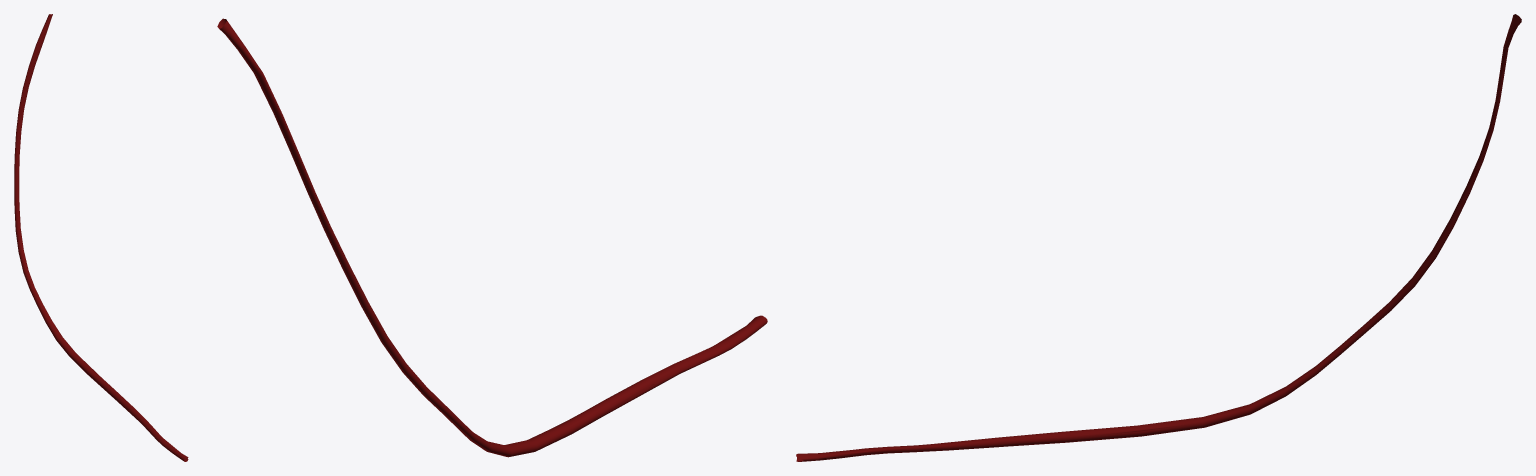
File: L arteria epigastrica cranialis.fbx
The picture shows the model from 3 angles, left to right: view 1: azimuth 30°, elevation 25°; view 2: azimuth 150°, elevation 25°; view 3: azimuth 270°, elevation 25°; orthographic projection. The views are drawn at different scales.
Visible parts, largest first — view 1: L arteria epigastrica cranialis, L arteria epigastrica cranialis low; view 2: L arteria epigastrica cranialis, L arteria epigastrica cranialis low; view 3: L arteria epigastrica cranialis, L arteria epigastrica cranialis low.
Part boxes in pixels (left/top/right/bottom): L arteria epigastrica cranialis: left=14, top=14, right=188, bottom=461; L arteria epigastrica cranialis low: left=14, top=14, right=188, bottom=461; L arteria epigastrica cranialis: left=219, top=19, right=767, bottom=457; L arteria epigastrica cranialis low: left=217, top=18, right=752, bottom=454; L arteria epigastrica cranialis: left=796, top=14, right=1521, bottom=461; L arteria epigastrica cranialis low: left=796, top=16, right=1521, bottom=461.
Size of the model in its own units: 9.26 by 33.98 by 44.32.
